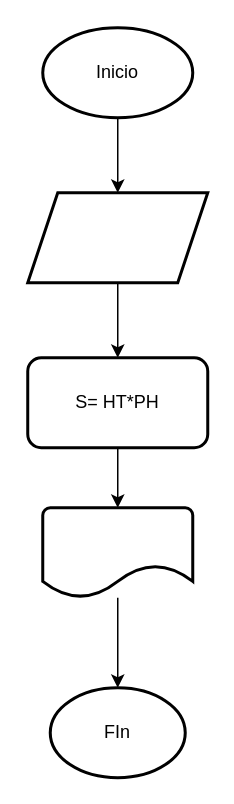
Image size: 234x804. Some labels were removed from this diagram. Each missing label, with the centre of its shape:
"HT, PH" goes at pixel 117 237.
"Sueldo" goes at pixel 117 552.
